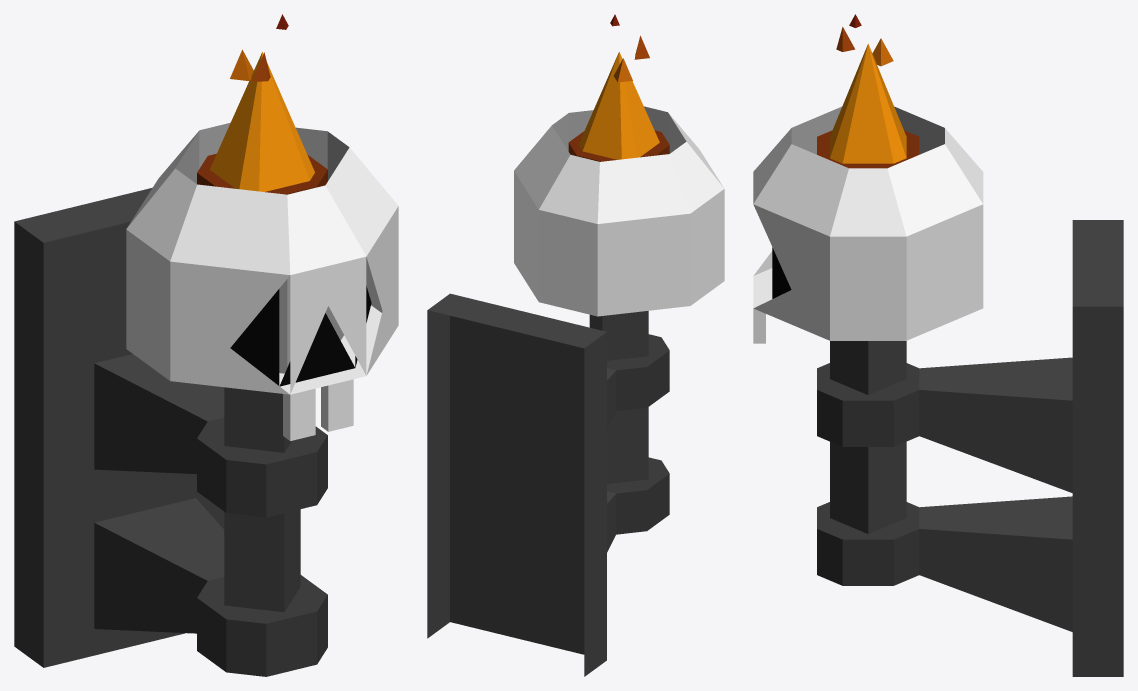
The model's file is skulltorcha2.obj.
The picture shows the model from 3 angles, left to right: view 1: azimuth 30°, elevation 25°; view 2: azimuth 150°, elevation 25°; view 3: azimuth 270°, elevation 25°; orthographic projection. The views are drawn at different scales.
Visible parts, largest first — view 1: skulltorcha2_back; view 2: skulltorcha2_back; view 3: skulltorcha2_back.
Boxes of the visible parts, left/top/right/bottom form: skulltorcha2_back: left=14, top=14, right=398, bottom=676; skulltorcha2_back: left=427, top=14, right=724, bottom=676; skulltorcha2_back: left=753, top=14, right=1123, bottom=676.
Size of the model in its own units: 0.36 by 1.08 by 0.58.
